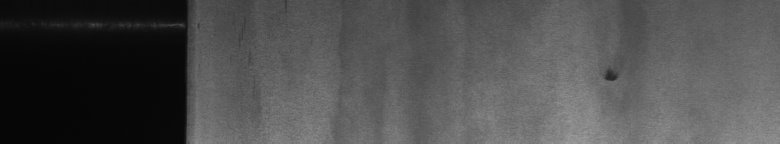fi: (600, 64, 620, 88)
